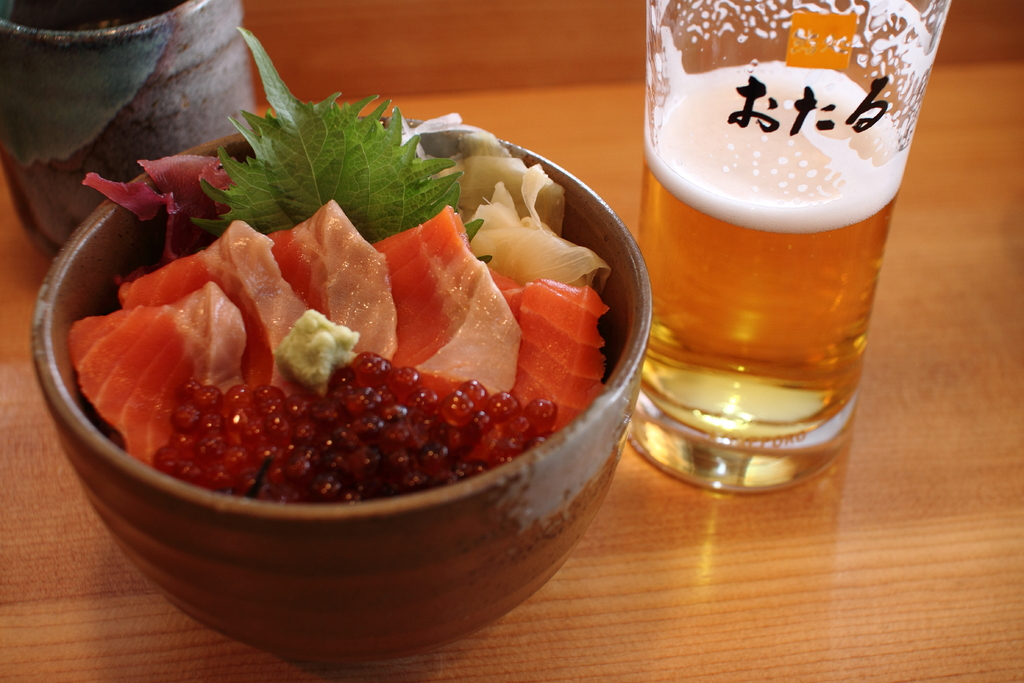Beer: (643, 0, 951, 450)
